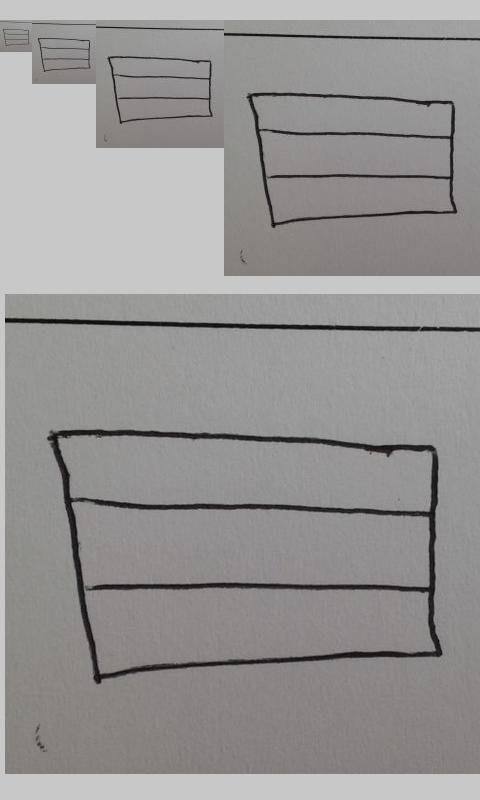list_view: (48, 425, 446, 683), (247, 90, 459, 229), (107, 55, 214, 124), (37, 37, 91, 72), (3, 28, 30, 47)
